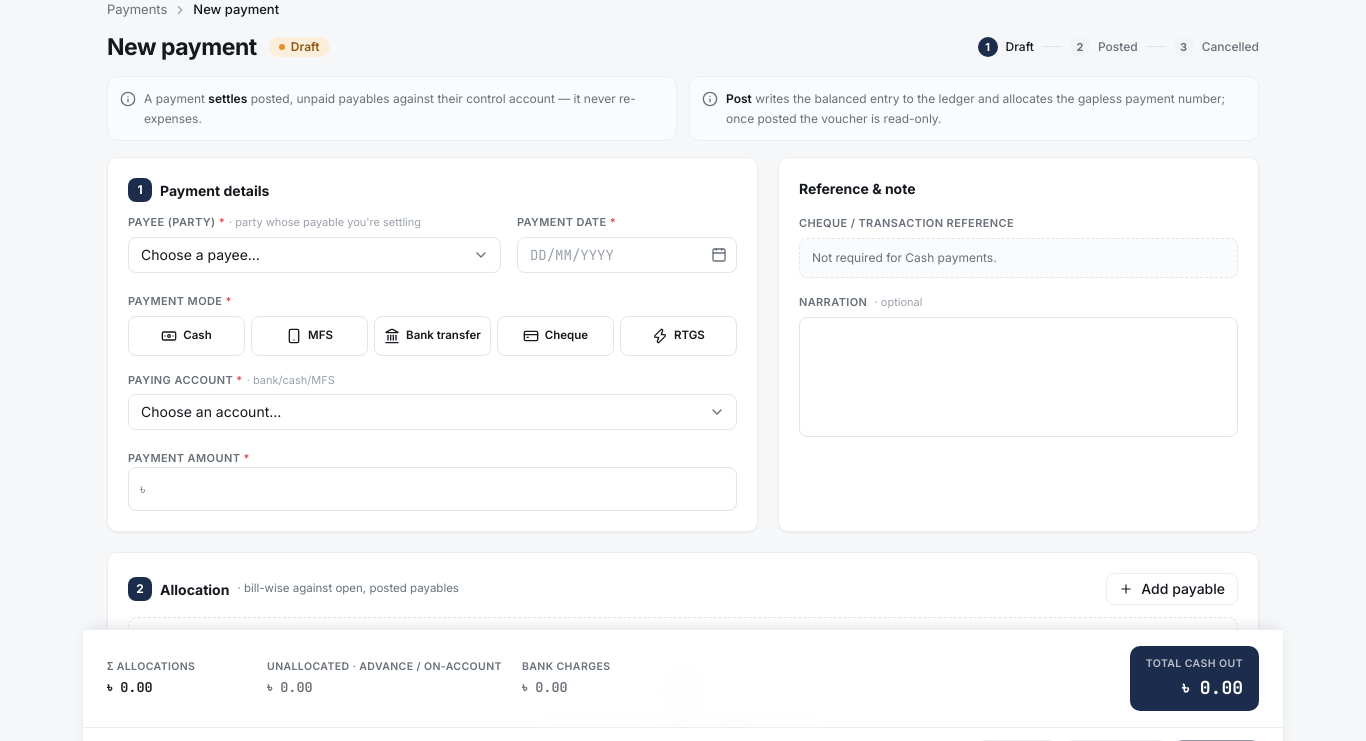
PaymentEditor — payee change confirm (Open item 4) › prompts before clearing allocations when changing payee
Expected: the heading "New payment" is shown, [107,30,257,64]
Select "M/s Rahman Traders" in the dropdown with test id "payment-editor-party" at (314, 254), box [128,236,501,272]
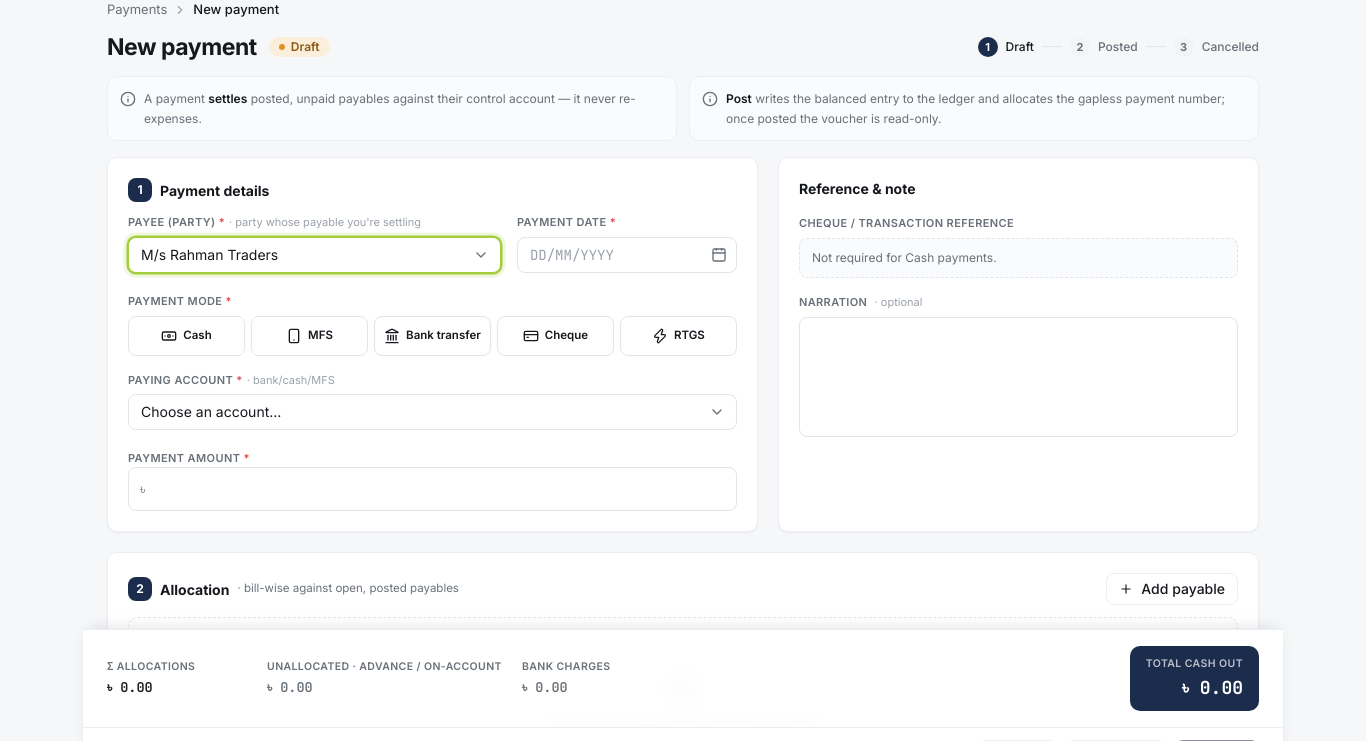
Click the button with test id "payment-allocation-add" at (1172, 589), box [1106,573,1238,605]
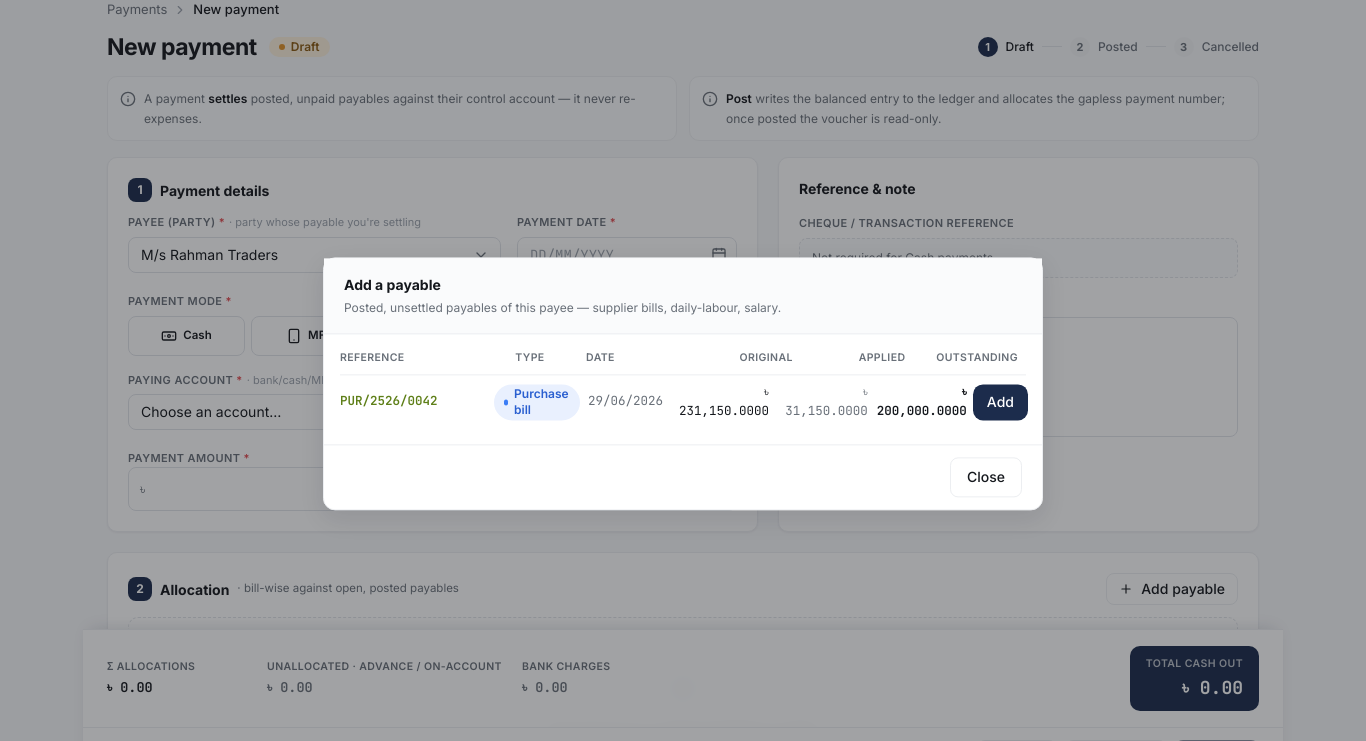
Click the button with test id "open-payables-pick-bill-1" at (1000, 402), box [975,386,1026,418]
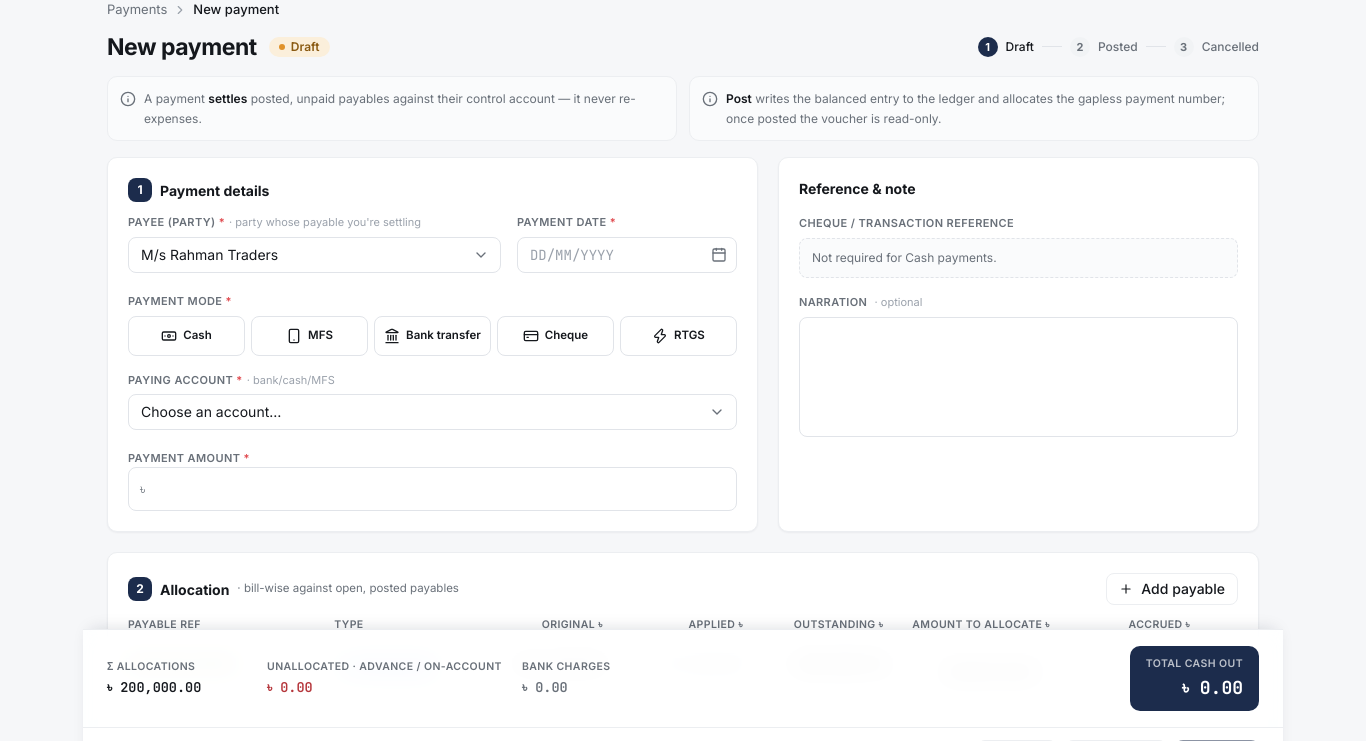
Select "Shah Cement Ltd." in the dropdown with test id "payment-editor-party" at (314, 254), box [128,236,501,272]
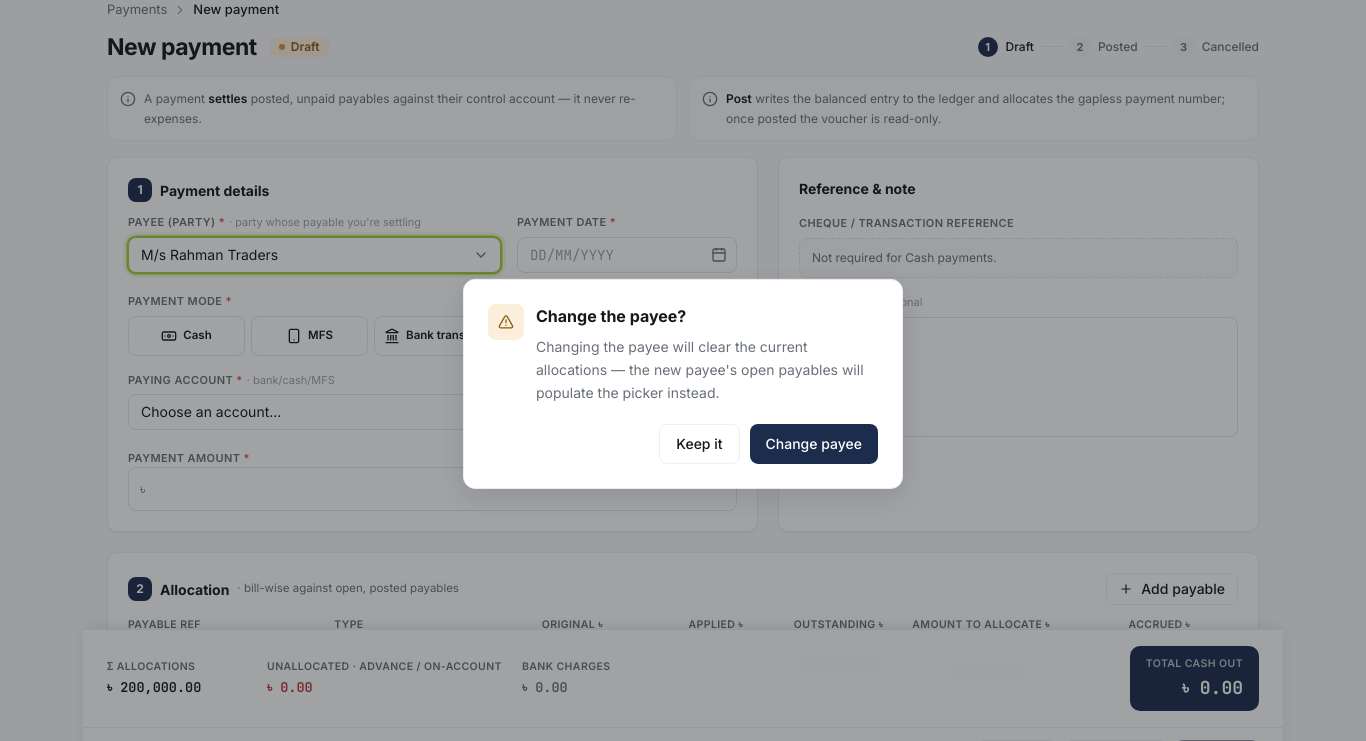
Expected: the dialog with test id "payment-payee-change-dialog" is shown, [463,279,903,489]
Click the button with test id "payment-payee-change-confirm" at (814, 444), box [750,424,878,464]
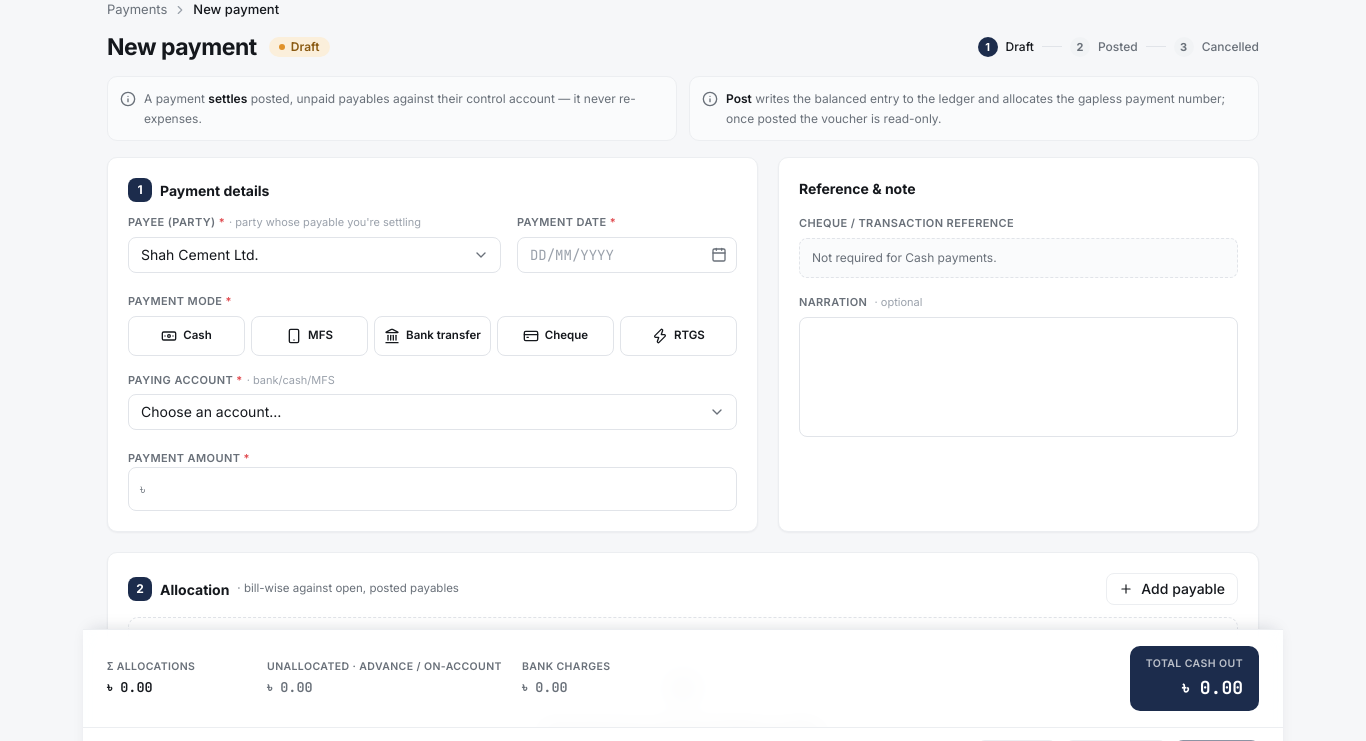
Expected: the element with test id "payment-allocation-row-bill-1" is gone
